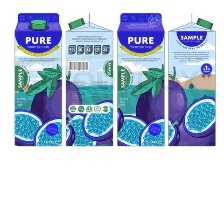carton: (166, 10, 221, 150), (11, 10, 63, 149), (115, 8, 166, 149), (64, 11, 114, 152)
